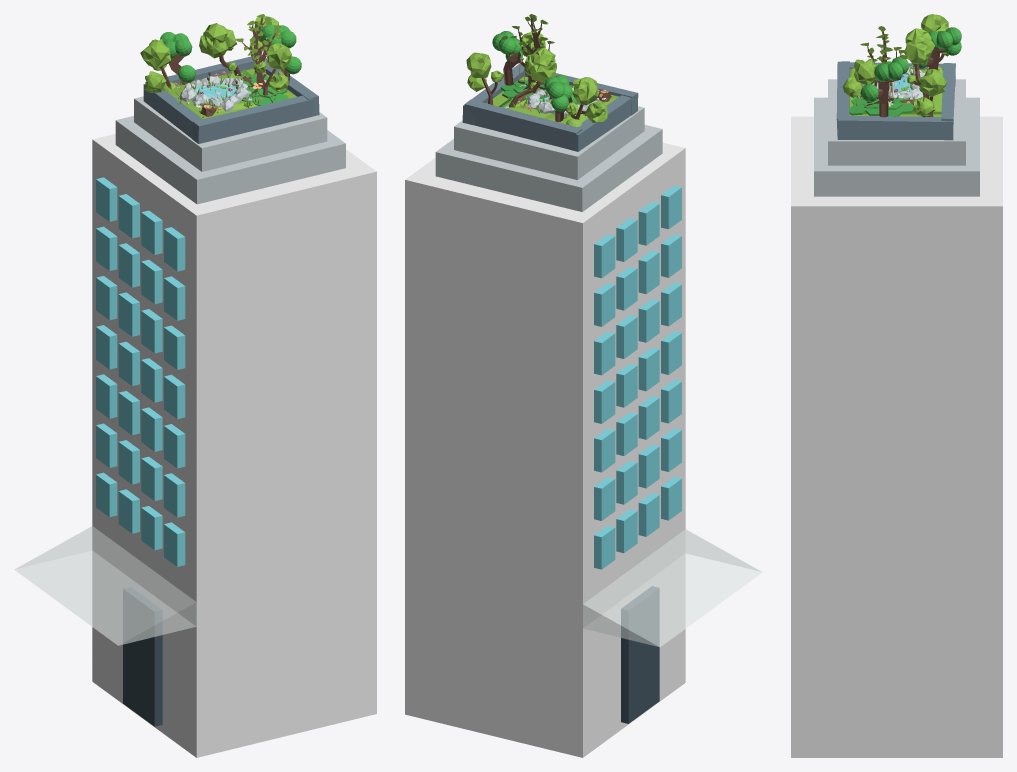
File: edificio1.glb
3 views of the same model, side by side, from view 1: azimuth 30°, elevation 25°; view 2: azimuth 150°, elevation 25°; view 3: azimuth 270°, elevation 25° (orthographic). The views are drawn at different scales.
Visible parts, largest first — view 1: Node; view 2: Node; view 3: Node.
Boxes of the visible parts, bbox=[...] form: Node: bbox=[14, 14, 376, 757]; Node: bbox=[405, 14, 762, 757]; Node: bbox=[791, 14, 1002, 757].
Bounding box in the file's own units: 0.33 × 0.8326 × 0.23.
